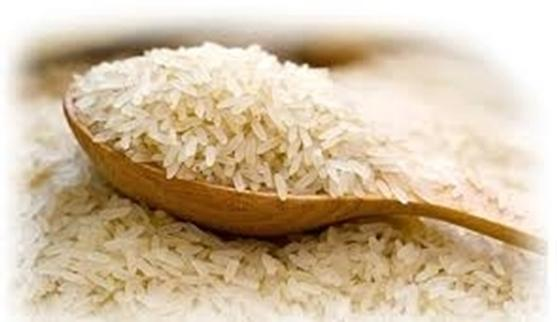rice: (81, 33, 383, 206)
